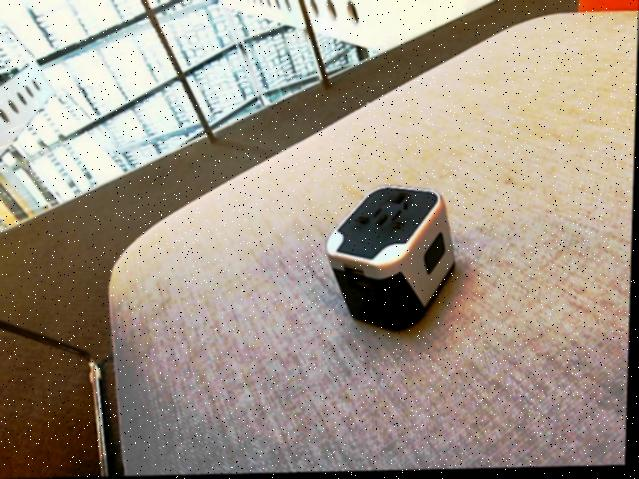adapter: (325, 185, 459, 335)
